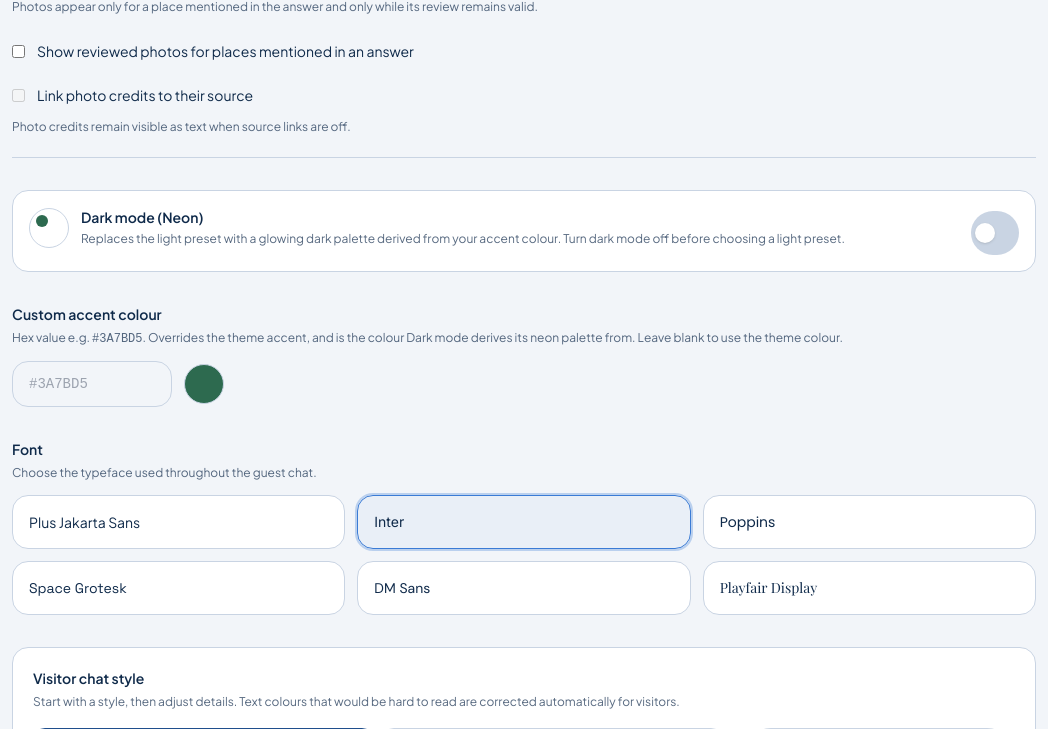
Test: ChatDesignForm › omits an invalid custom accent from the preview URL and explains the fallback
(page scrolled)
Type "blue" into the field labelled "Custom accent colour" at (92, 384), box [12,361,172,407]
(page scrolled)
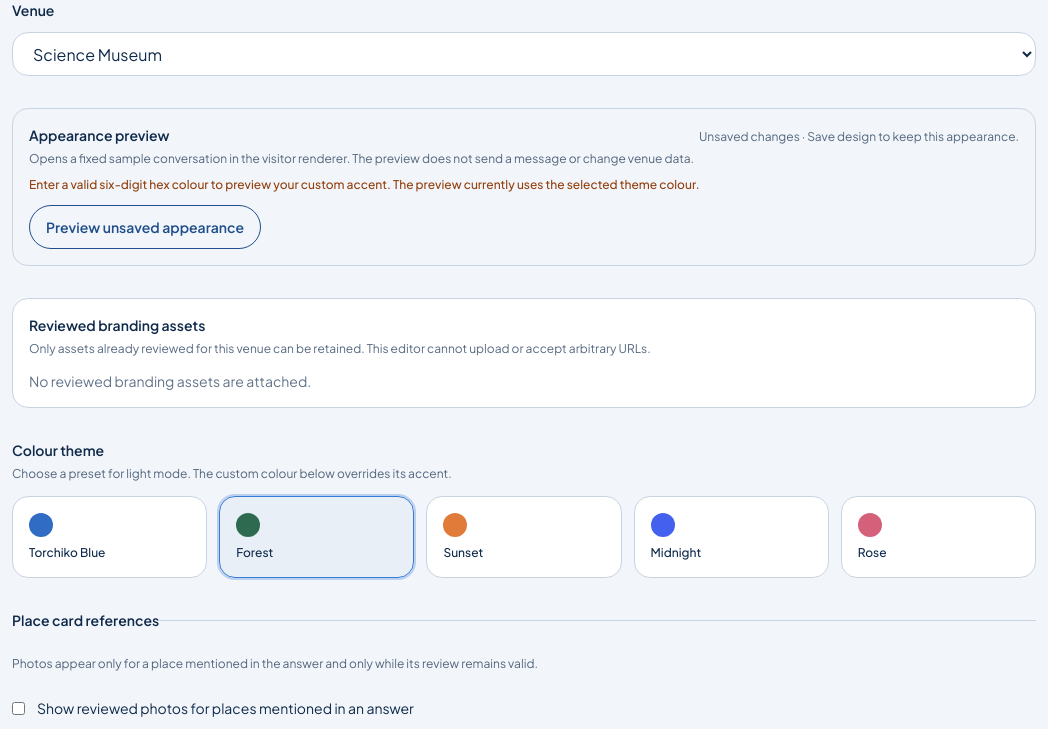
Result: the text "selected theme colour" is shown at [29,177,700,192]
